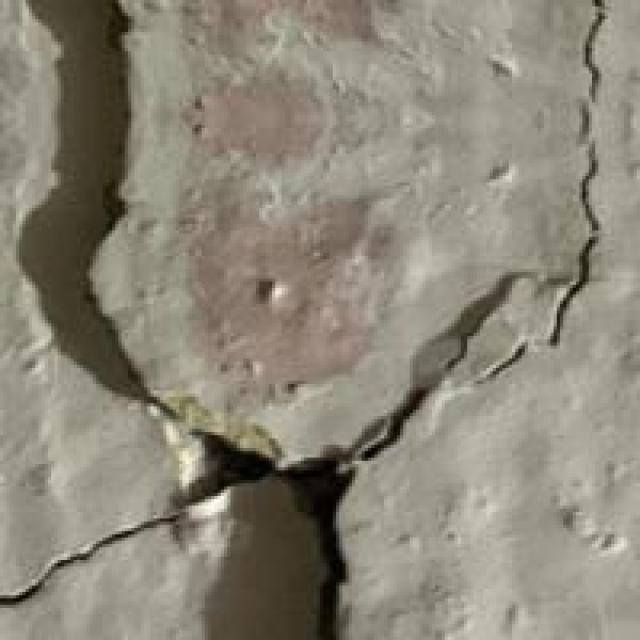Crack: (32, 9, 608, 636)
